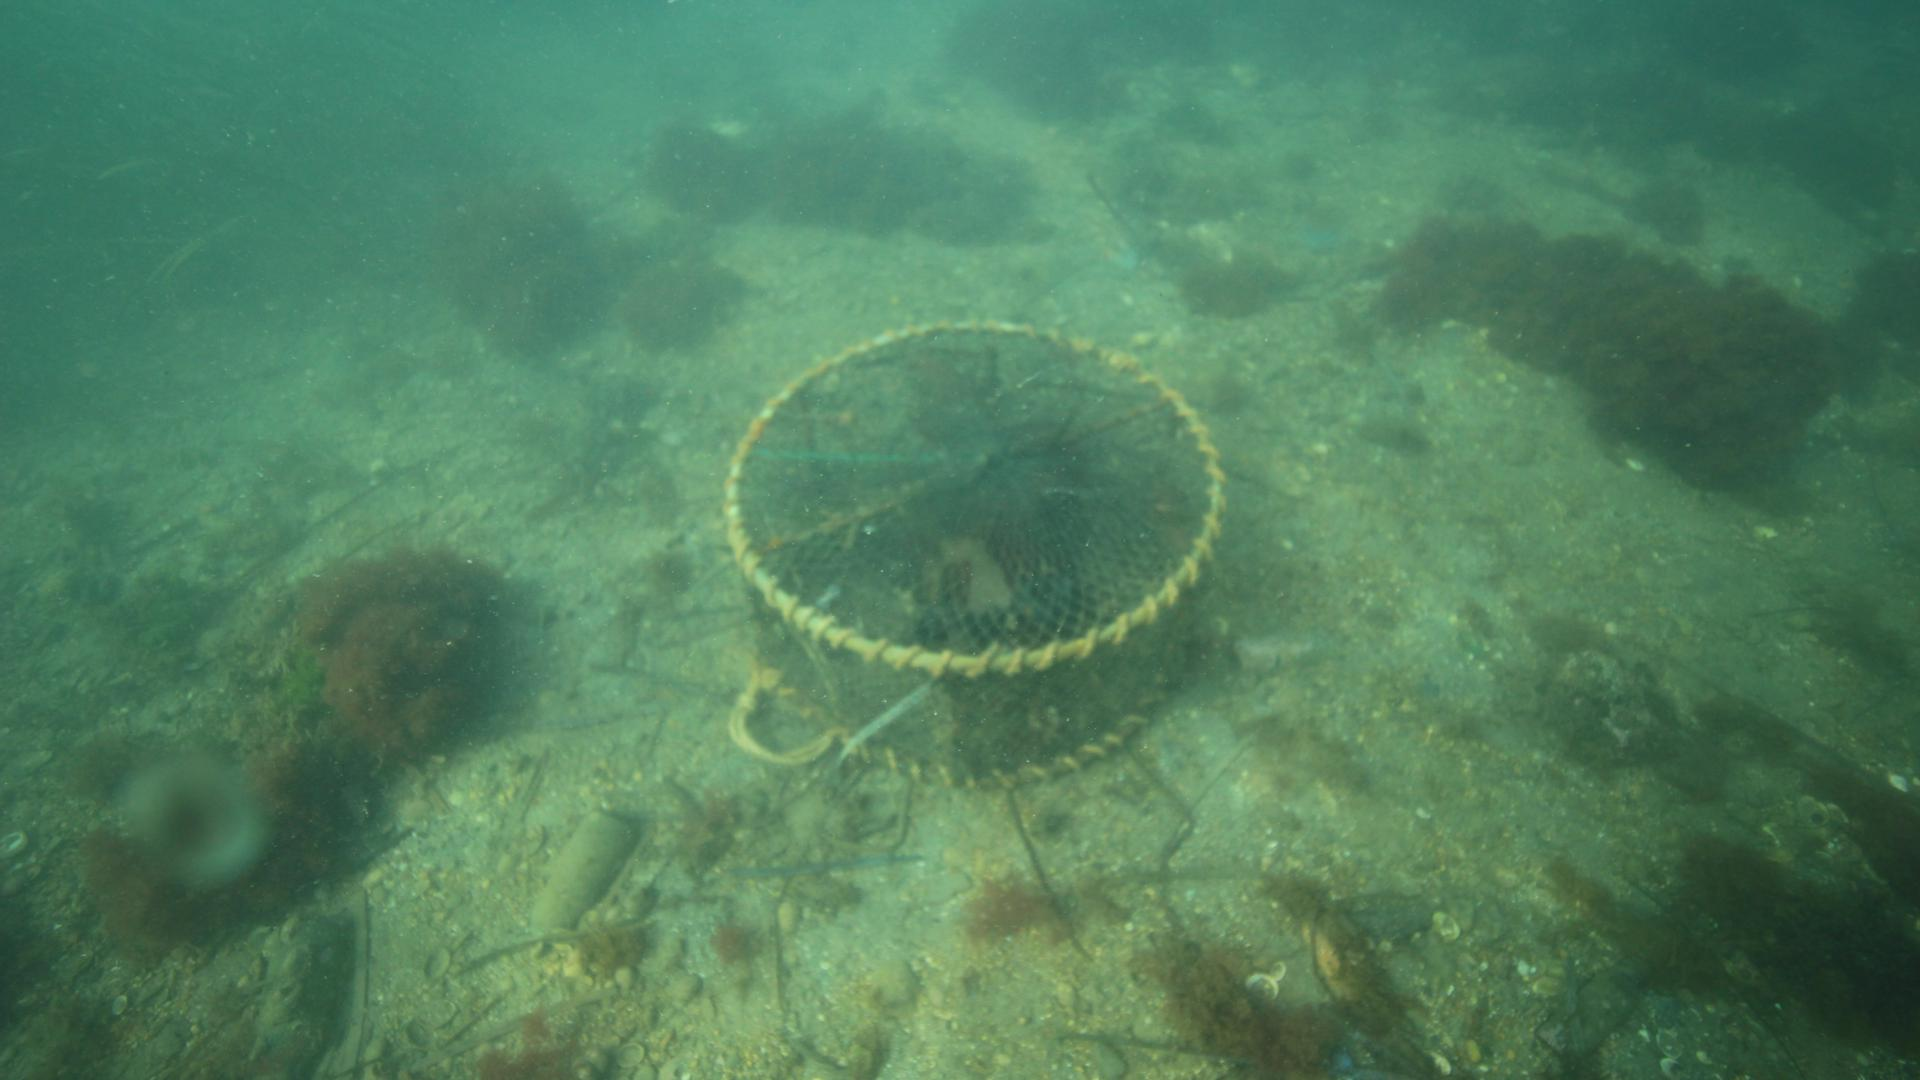bundle of ropes: (724, 673, 840, 769)
circular fish trap: (717, 316, 1229, 793)
